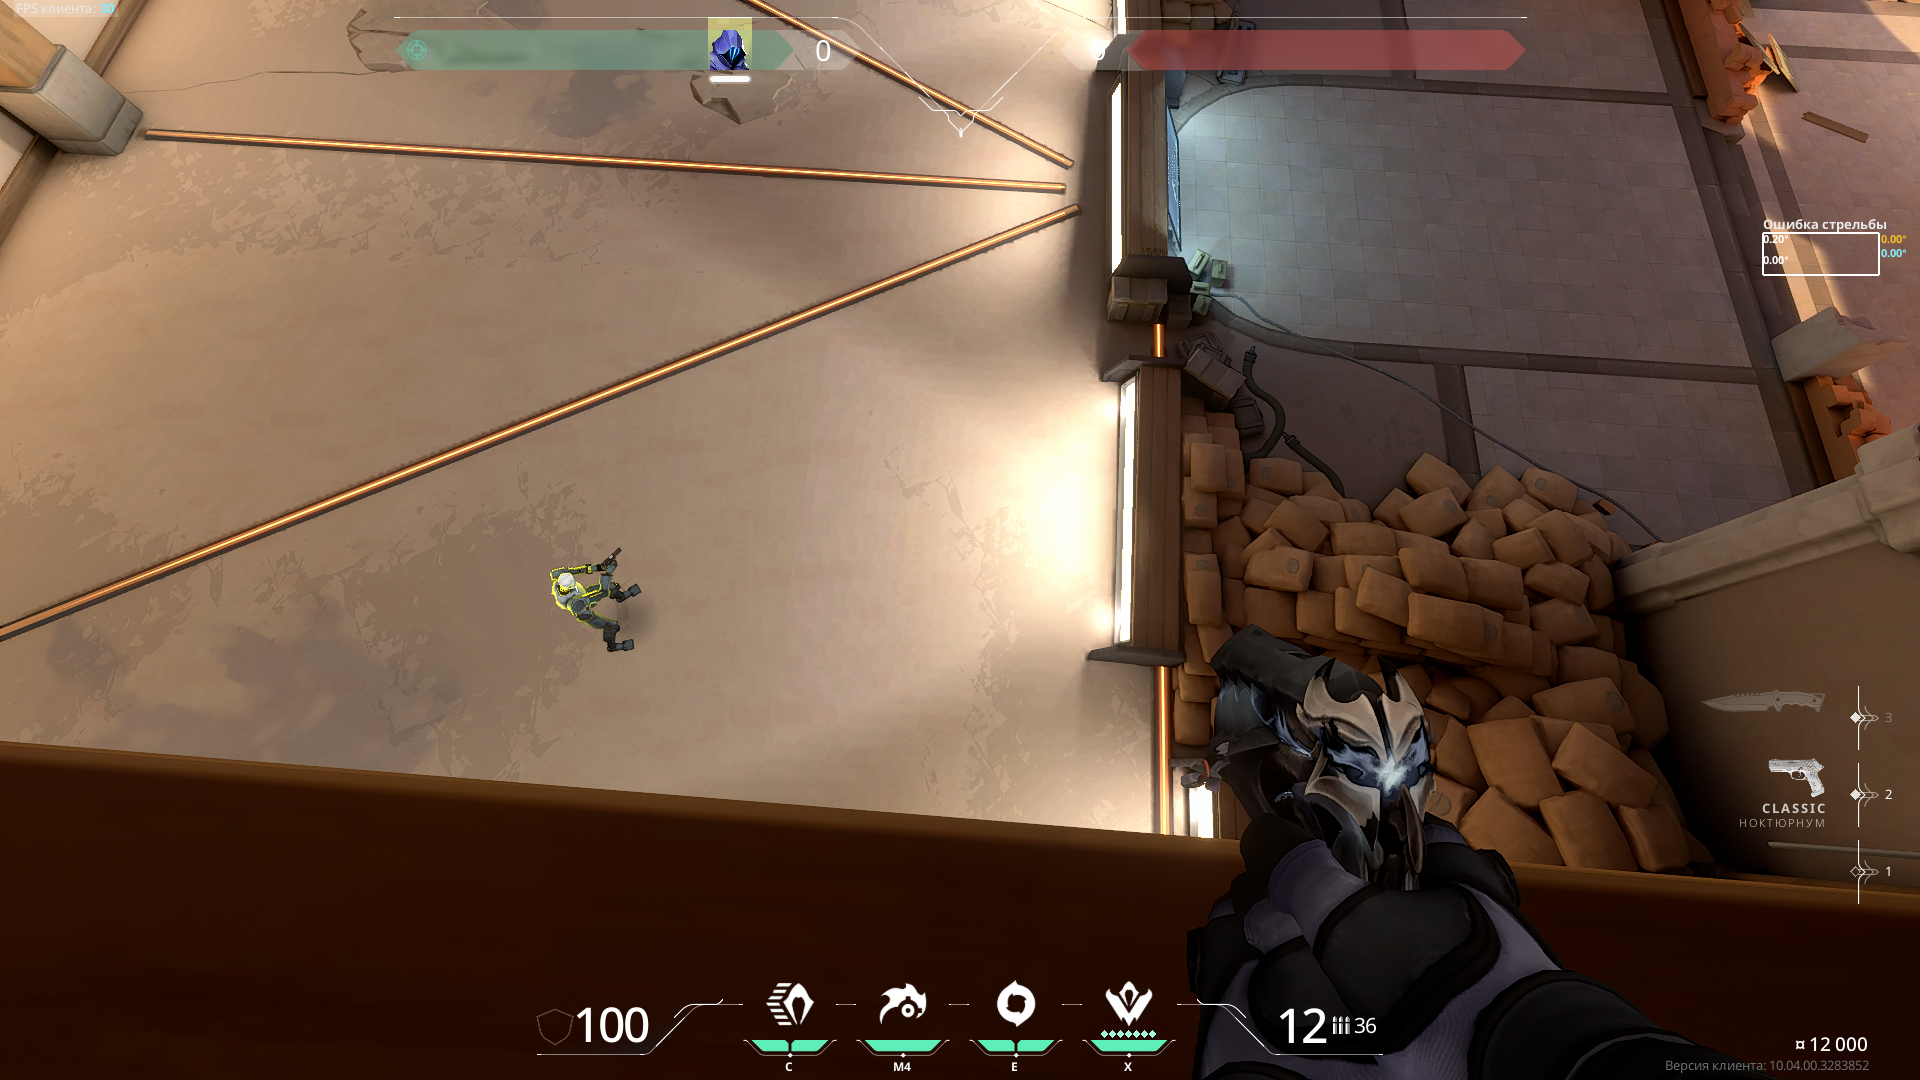head: (558, 573, 576, 590)
